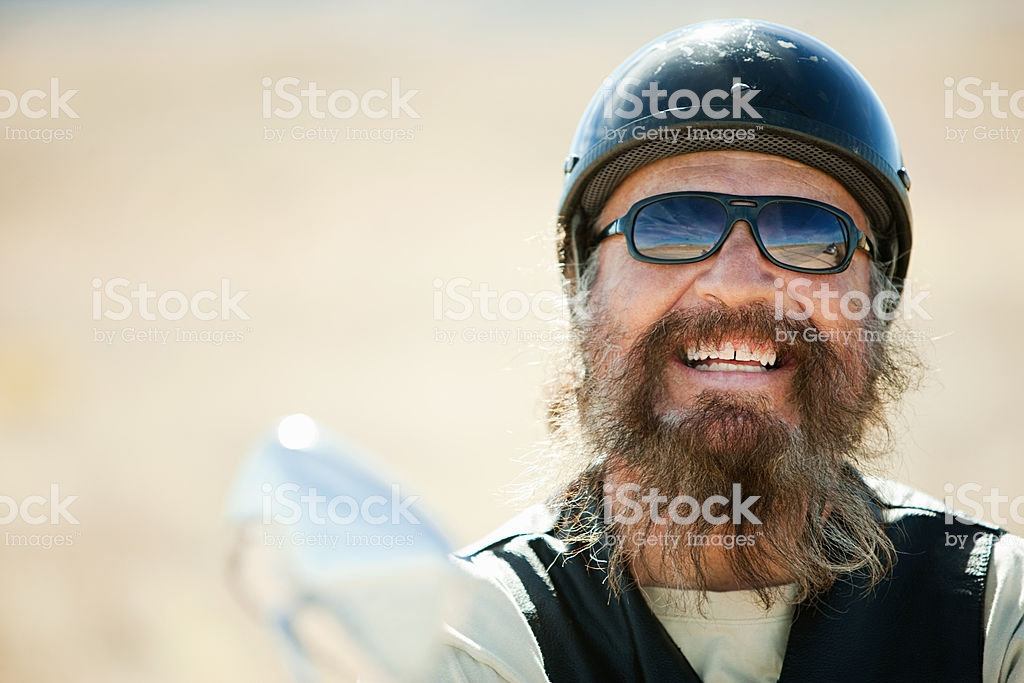helmet: (543, 24, 927, 260)
